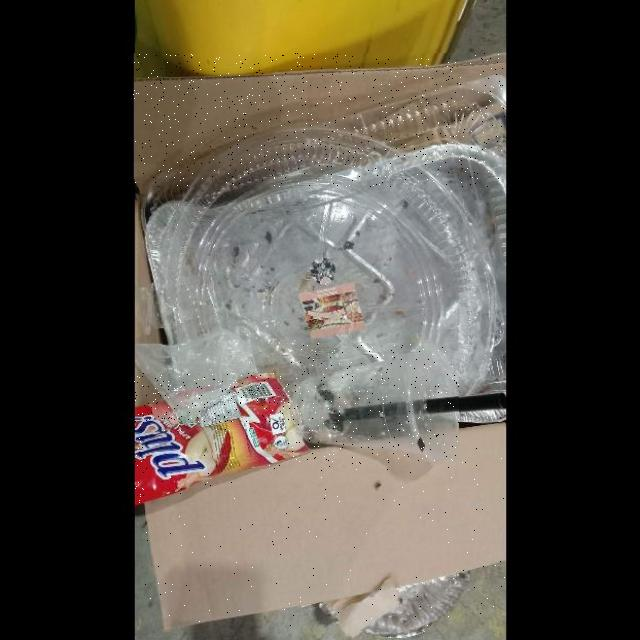paper: (146, 423, 505, 631), (134, 54, 505, 187)
plastic: (291, 344, 459, 464)
wrapper: (134, 374, 307, 507)
